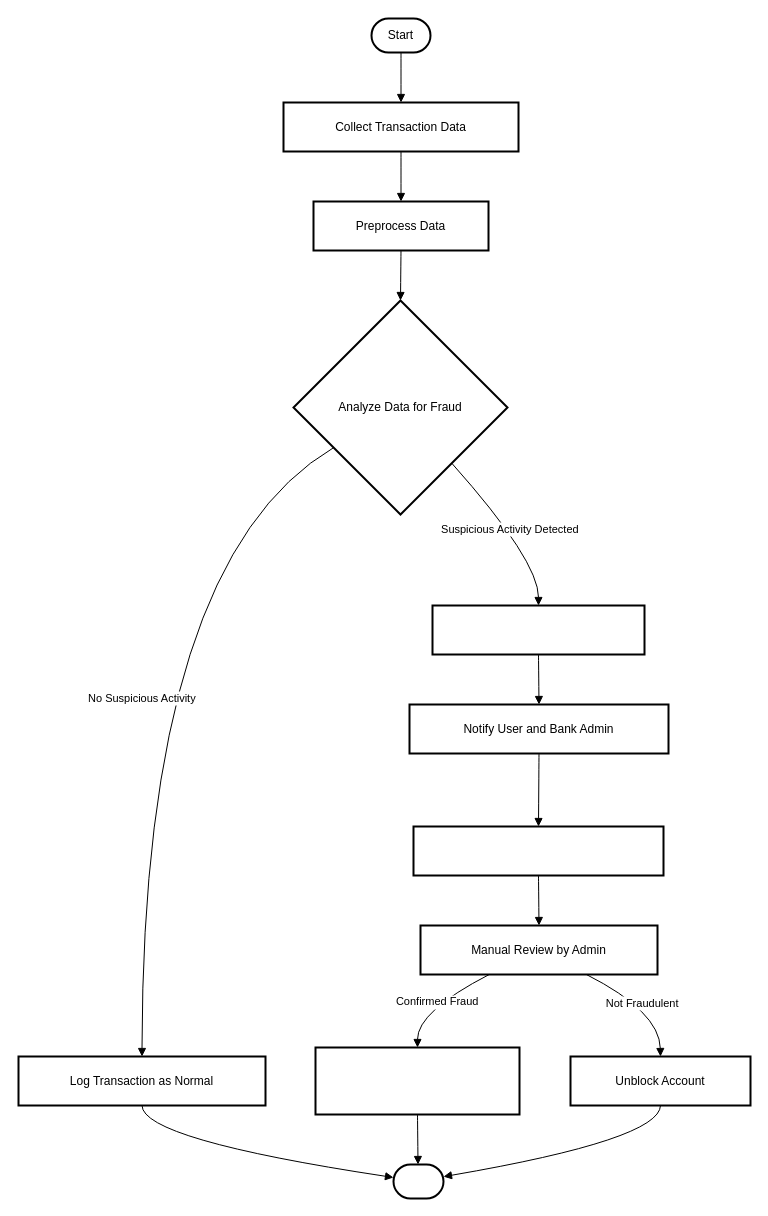
Some shapes in this 768 by 1216 pixel diagram are drawn without their labels. Each missing label, with the centre of its shape:
Block Account Temporarily: the point at 538,850
End: the point at 418,1181
Escalate for Further Investigation: the point at 417,1080
Generate Fraud Alert: the point at 538,629
